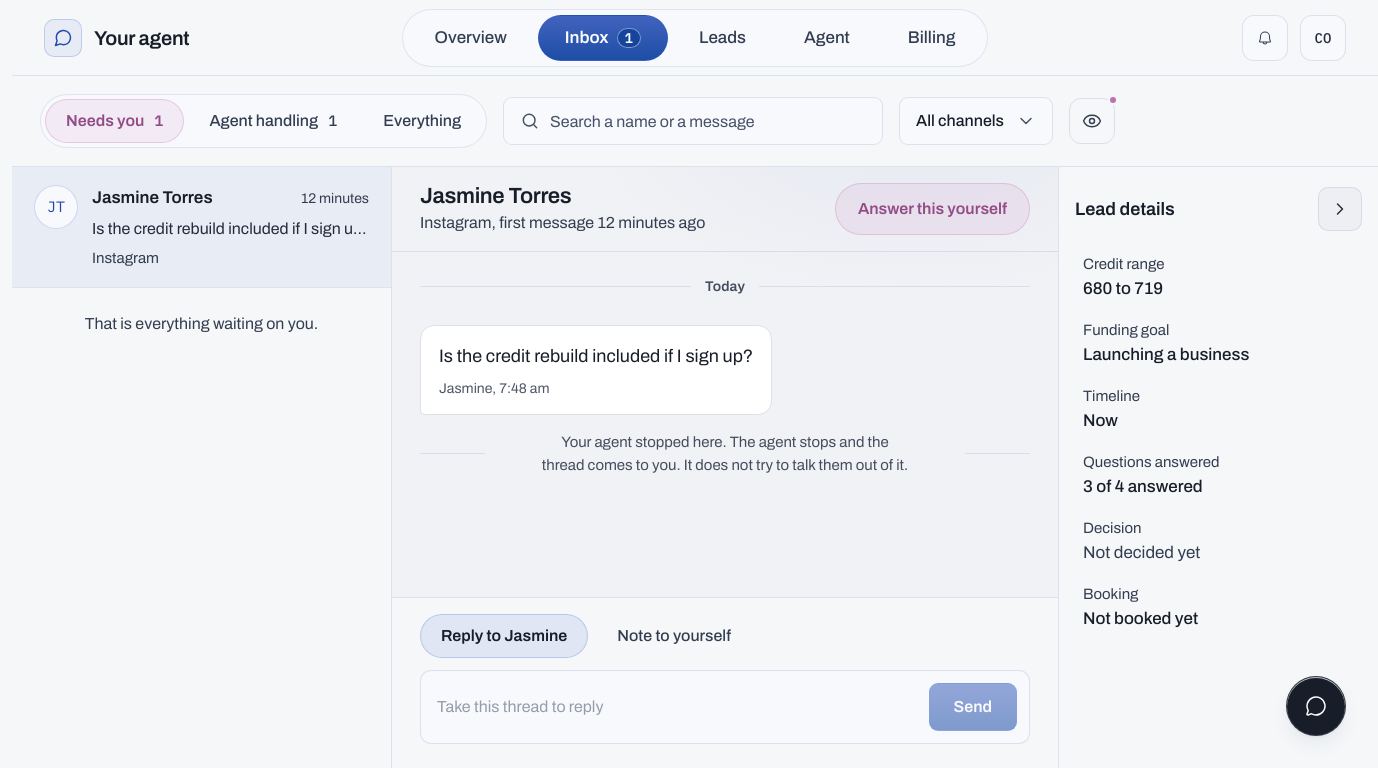
Test: CoachInbox › hides the rail behind its one chevron and offers the same chevron to bring it back
Click the button named "Hide lead details" at [1340, 209], box [1318,187,1362,231]
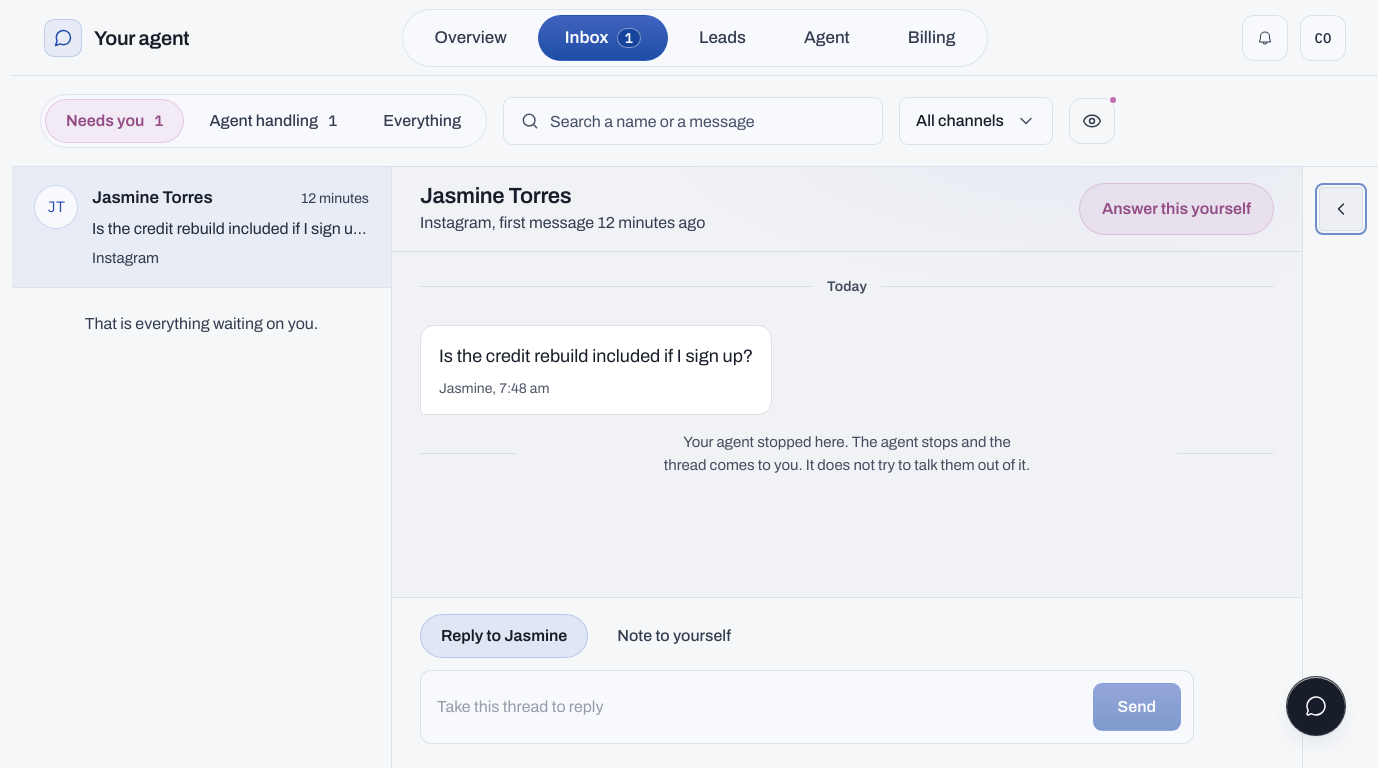
Expected: the text "Credit range" is gone
Expected: the button named "Show lead details" is shown, [1318,187,1362,231]
